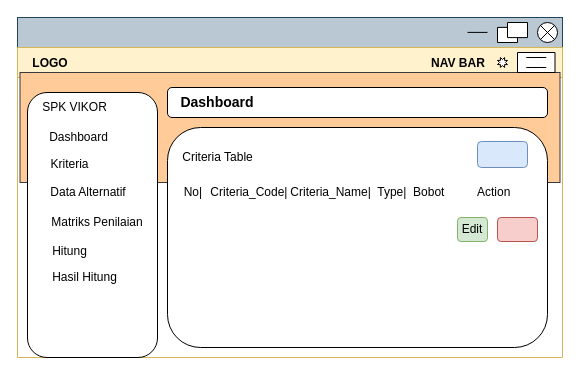
The diagram is 580 pixels wide and 375 high, and some of its shapes have lost their labels. The shapes that lost their labels are listed below. From the top down, each one's centre as x and y in pixels, then its label:
pixel 502 154: Add
pixel 517 229: Delete
